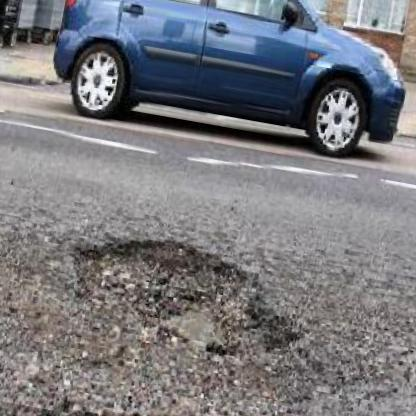pothole: (55, 217, 314, 373)
